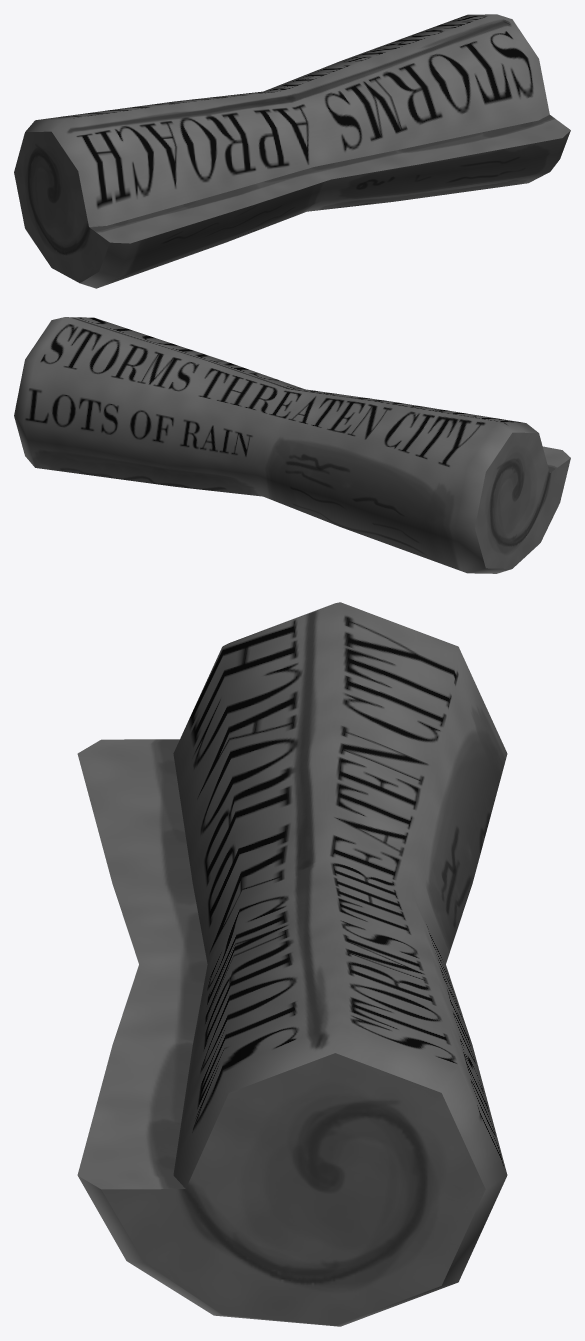
The model's file is Newspaper.obj.
3 views of the same model, one above another, from view 1: azimuth 30°, elevation 25°; view 2: azimuth 150°, elevation 25°; view 3: azimuth 270°, elevation 25° (orthographic). The views are drawn at different scales.
Parts seen in each view (by area): view 1: pCylinder3; view 2: pCylinder3; view 3: pCylinder3.
Boxes of the visible parts, box(x1,y1,x2,y2) form: pCylinder3: box(14, 14, 570, 288); pCylinder3: box(14, 317, 570, 573); pCylinder3: box(77, 602, 507, 1326).
Size of the model in its own units: 1.48 by 0.4602 by 0.5924.
